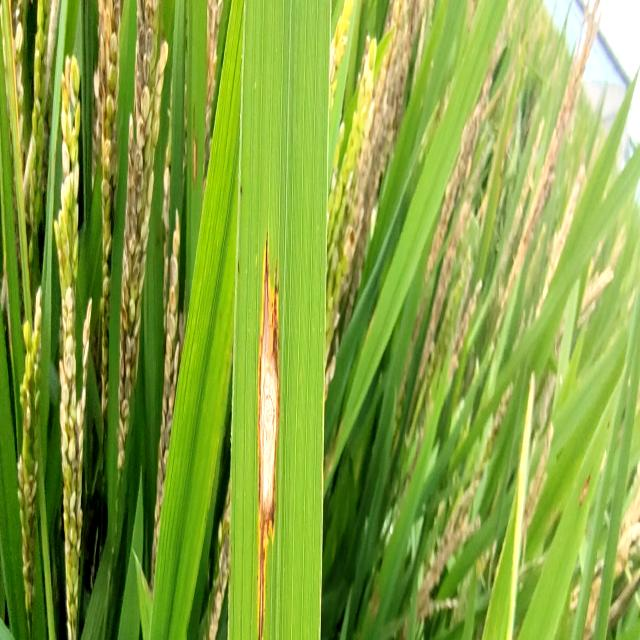LEAF BLAST: (258, 230, 279, 640)
